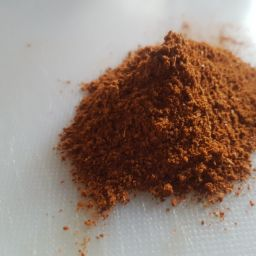Cinemon powder: (47, 17, 256, 254), (39, 26, 256, 229)
